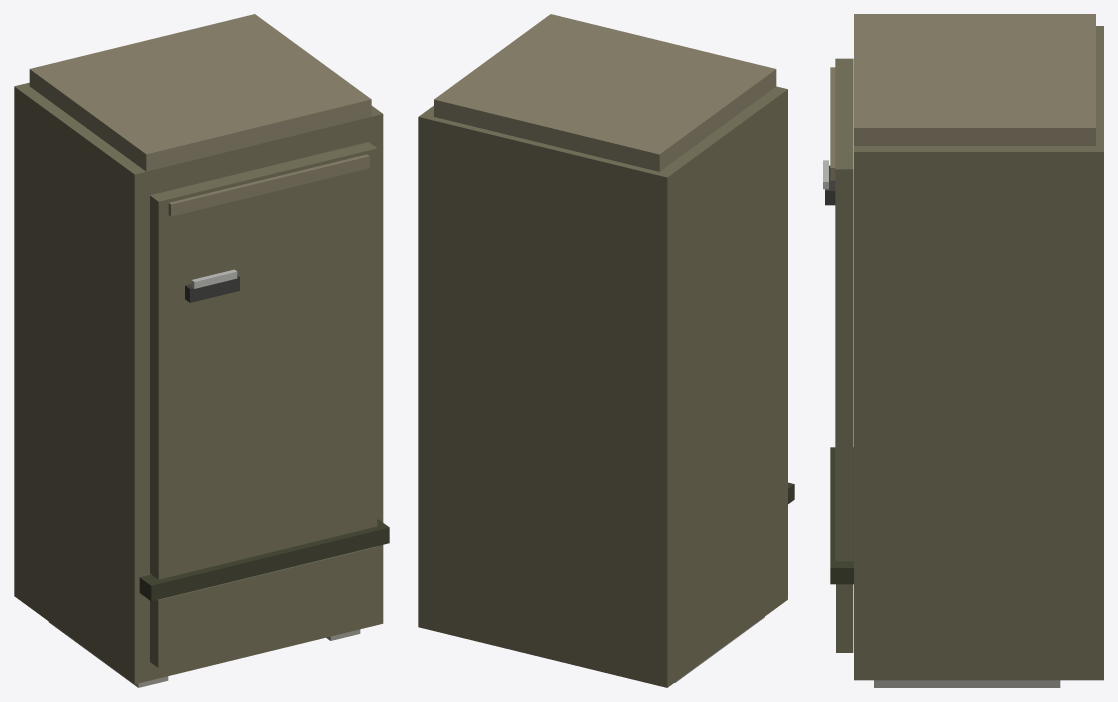
The model's file is CMU3DFridge.glb.
The picture shows the model from 3 angles, left to right: view 1: azimuth 30°, elevation 25°; view 2: azimuth 150°, elevation 25°; view 3: azimuth 270°, elevation 25°; orthographic projection. The views are drawn at different scales.
Parts seen in each view (by area): view 1: single closed door, fridge body, top rounded shoulder, lower compressor panel, compressor divider, door top highlight, small horizontal handle; view 2: fridge body, top rounded shoulder; view 3: fridge body, top rounded shoulder, single closed door, refrigerator foot, compressor divider, lower compressor panel, door top highlight.
Boxes of the visible parts, left/top/right/bottom form: single closed door: left=150, top=142, right=377, bottom=579; fridge body: left=14, top=82, right=383, bottom=684; top rounded shoulder: left=29, top=14, right=371, bottom=171; lower compressor panel: left=150, top=546, right=376, bottom=667; compressor divider: left=139, top=519, right=389, bottom=601; door top highlight: left=168, top=154, right=369, bottom=216; small horizontal handle: left=185, top=275, right=239, bottom=302; fridge body: left=418, top=86, right=787, bottom=687; top rounded shoulder: left=434, top=14, right=776, bottom=171; fridge body: left=854, top=26, right=1103, bottom=680; top rounded shoulder: left=854, top=14, right=1095, bottom=145; single closed door: left=835, top=58, right=853, bottom=561; refrigerator foot: left=874, top=680, right=1060, bottom=687; compressor divider: left=830, top=447, right=853, bottom=584; lower compressor panel: left=836, top=584, right=853, bottom=652; door top highlight: left=830, top=67, right=835, bottom=180.
Size of the model in its own units: 0.75 by 1.56 by 0.708.
